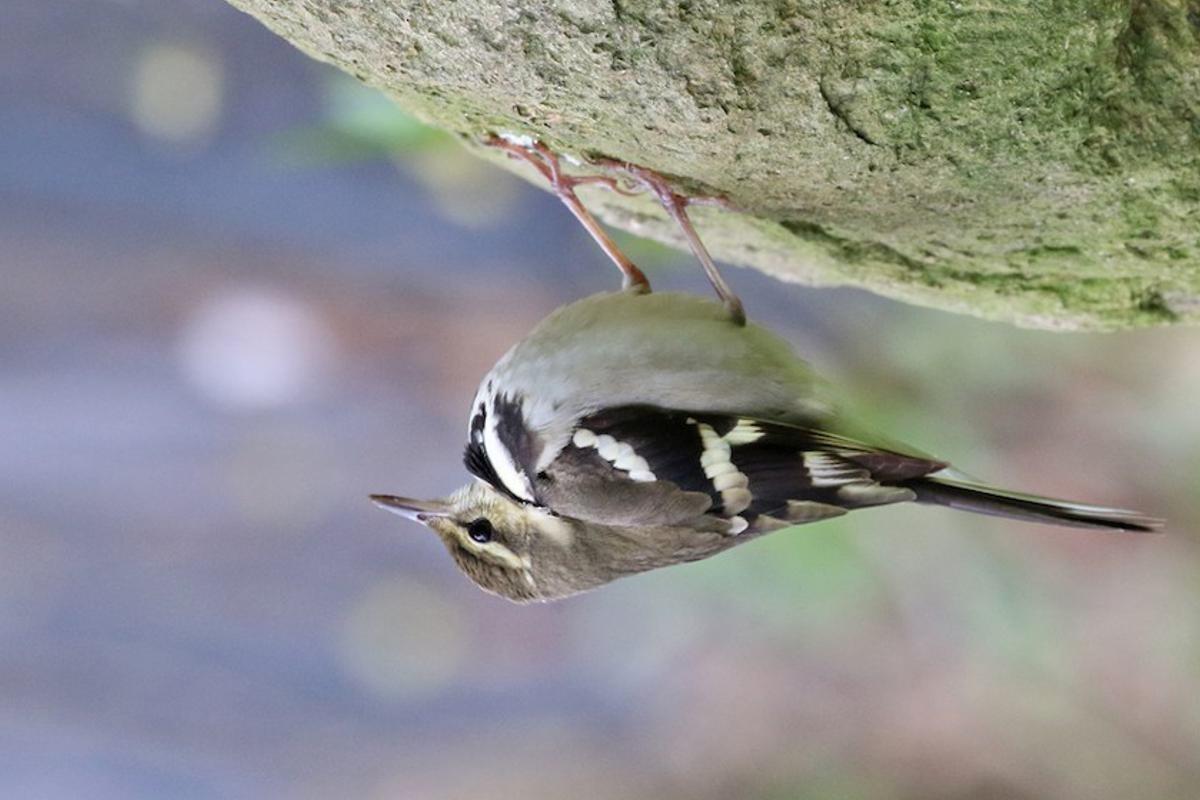wagtail: (357, 260, 945, 636)
